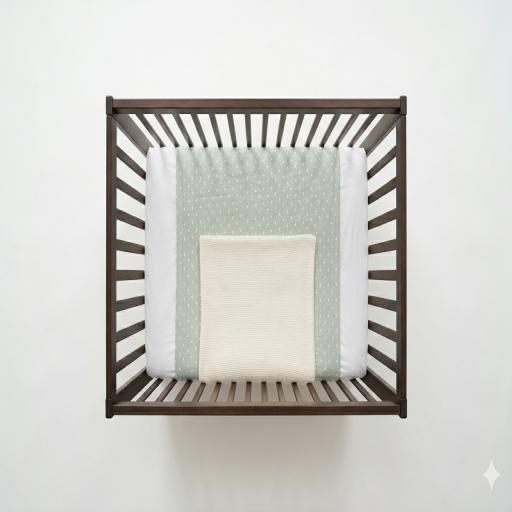crib: (106, 97, 406, 417)
